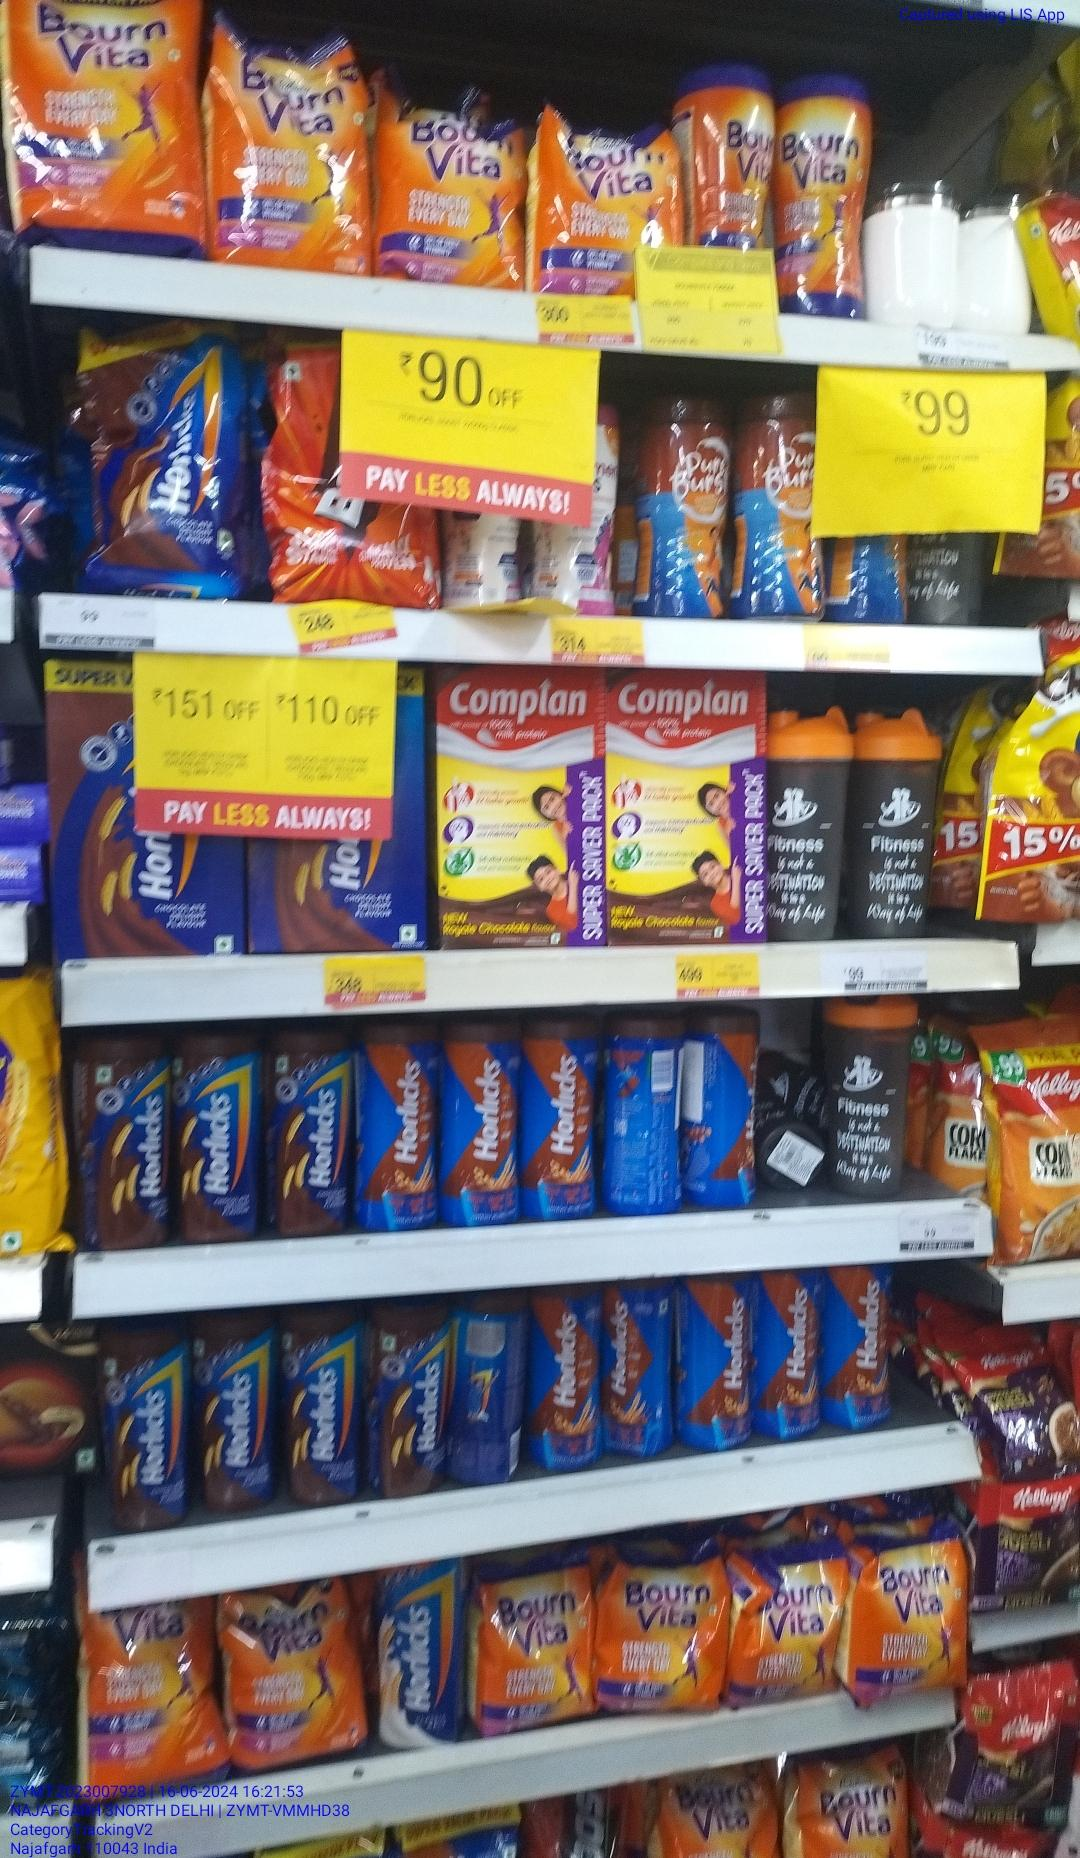BOURN_VITA_500_G_JAR: (780, 77, 867, 319), (684, 71, 771, 248)
BOURN_VITA_500_G_POUCH: (383, 84, 526, 289), (598, 1549, 723, 1709), (474, 1570, 588, 1726), (536, 105, 630, 291), (851, 1549, 964, 1691), (737, 1555, 831, 1695)
BOURN_VITA_750_G_POUCH: (215, 23, 372, 265), (80, 1621, 222, 1781), (229, 1597, 365, 1762)
COMPLAN_CHOCOLATE_1_KG_PACK: (438, 672, 603, 948), (607, 679, 768, 943)
HORLICK_CHOCOLATE_500_G_JAR: (442, 1022, 519, 1227), (359, 1027, 435, 1227), (526, 1013, 598, 1218), (532, 1287, 604, 1466), (680, 1281, 752, 1449), (609, 1285, 674, 1457), (757, 1272, 820, 1439), (825, 1268, 890, 1427)
HORLICK_CLASSIC_MALT_500_G_JAR: (377, 1565, 463, 1745)
